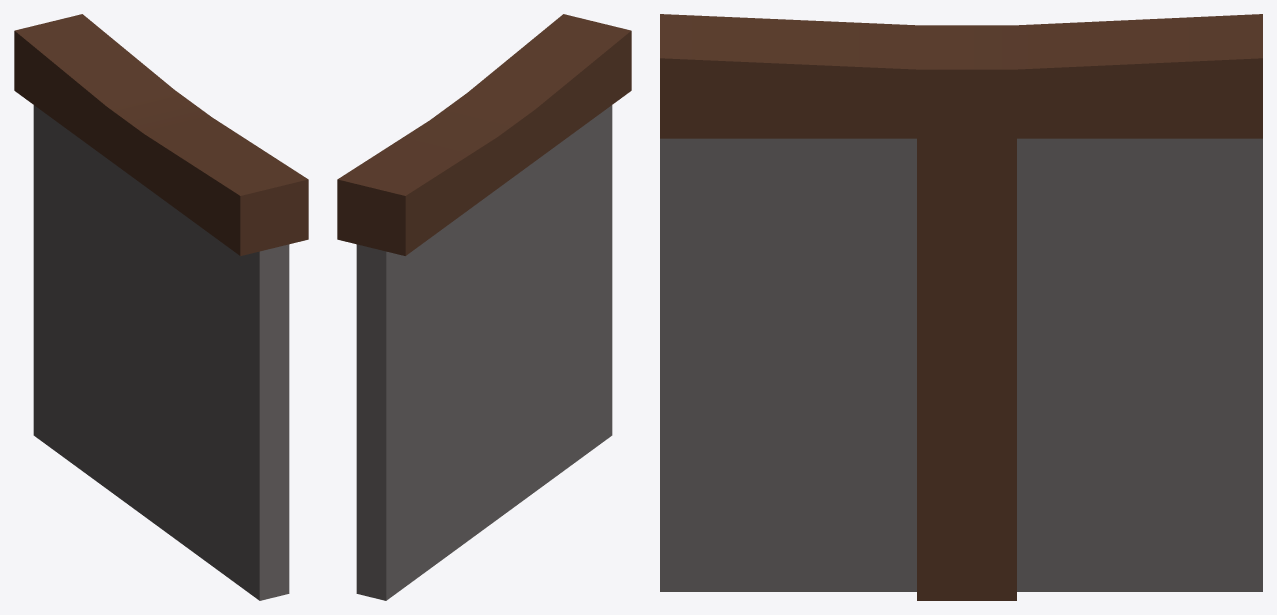
The model's file is Muur_2.fbx.
3 views of the same model, side by side, from view 1: azimuth 30°, elevation 25°; view 2: azimuth 150°, elevation 25°; view 3: azimuth 270°, elevation 25° (orthographic). The views are drawn at different scales.
Visible parts, largest first — view 1: Muur_2; view 2: Muur_2; view 3: Muur_2.
Boxes of the visible parts, x1,y1,x2,y2 form: Muur_2: [14, 14, 308, 600]; Muur_2: [337, 14, 631, 600]; Muur_2: [660, 14, 1262, 600].
Size of the model in its own units: 0.3476 by 2 by 2.
